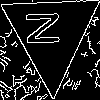N: (26, 9, 68, 47)
